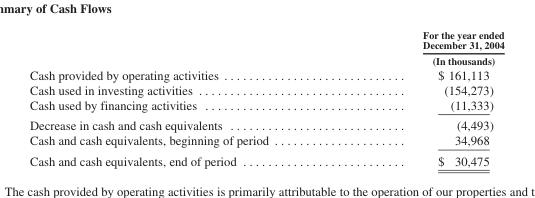table: (28, 28, 503, 167)
table column: (28, 28, 345, 167), (345, 28, 503, 167)
table column header: (28, 28, 503, 66)
table row: (28, 28, 503, 66), (28, 114, 503, 132), (28, 132, 503, 150), (28, 97, 503, 114), (28, 150, 503, 167), (28, 81, 503, 97), (28, 66, 503, 81)
